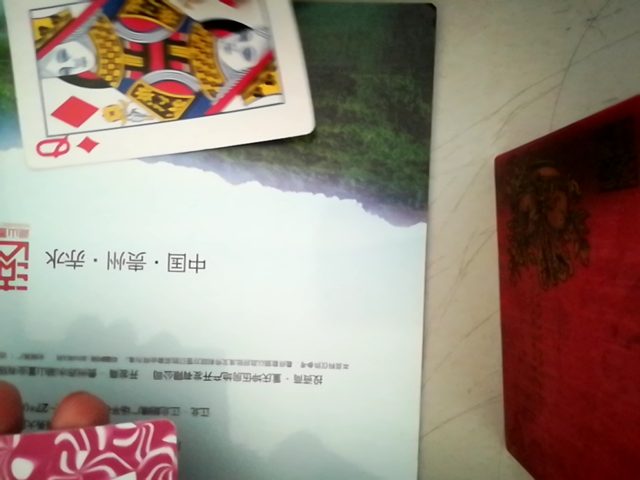fk q: (4, 3, 311, 172)
